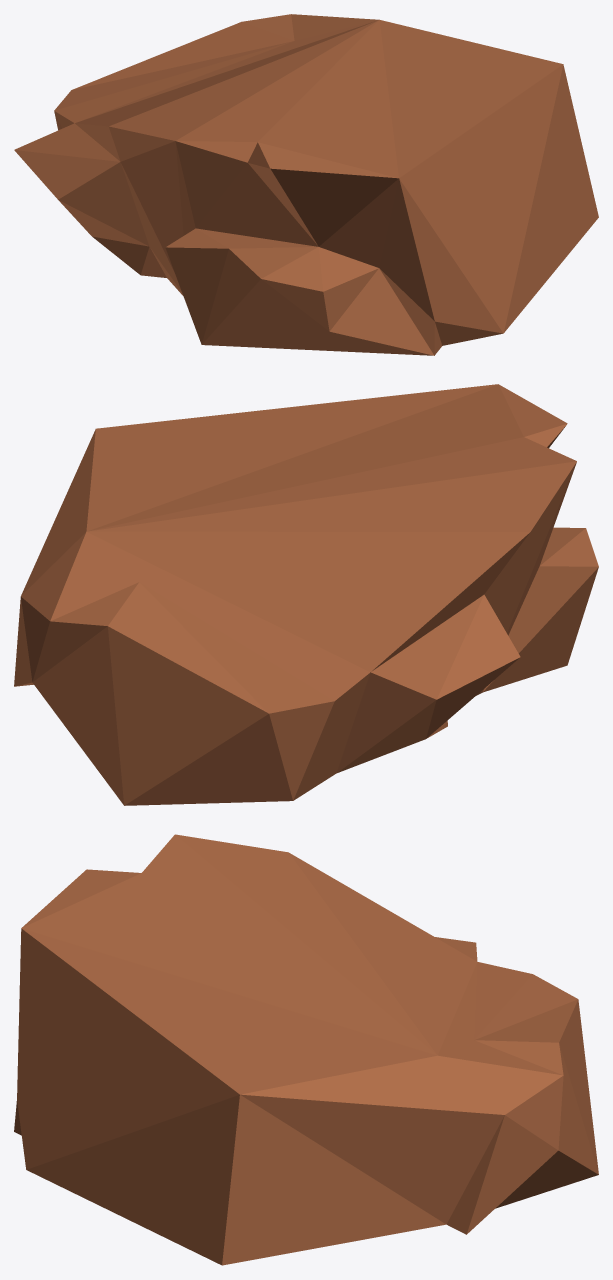
The model's file is SM_rock.fbx.
3 views of the same model, one above another, from view 1: azimuth 30°, elevation 25°; view 2: azimuth 150°, elevation 25°; view 3: azimuth 270°, elevation 25° (orthographic). The views are drawn at different scales.
Visible parts, largest first — view 1: rock; view 2: rock; view 3: rock.
Boxes of the visible parts, <box> form: rock: <box>14,14,598,355</box>; rock: <box>14,384,598,805</box>; rock: <box>14,834,598,1265</box>.
Bounding box in the file's own units: 672 × 302 × 692.
